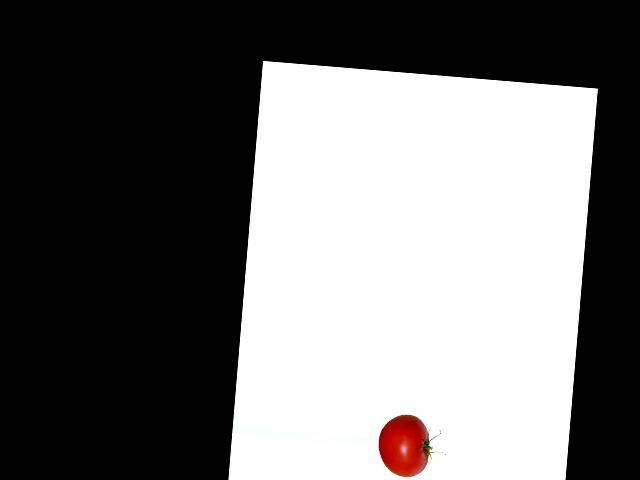tomato: (375, 413, 432, 479)
